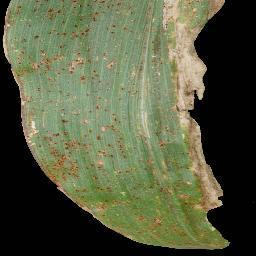Corn_Common_Rust: (1, 0, 143, 243), (143, 0, 232, 250)
